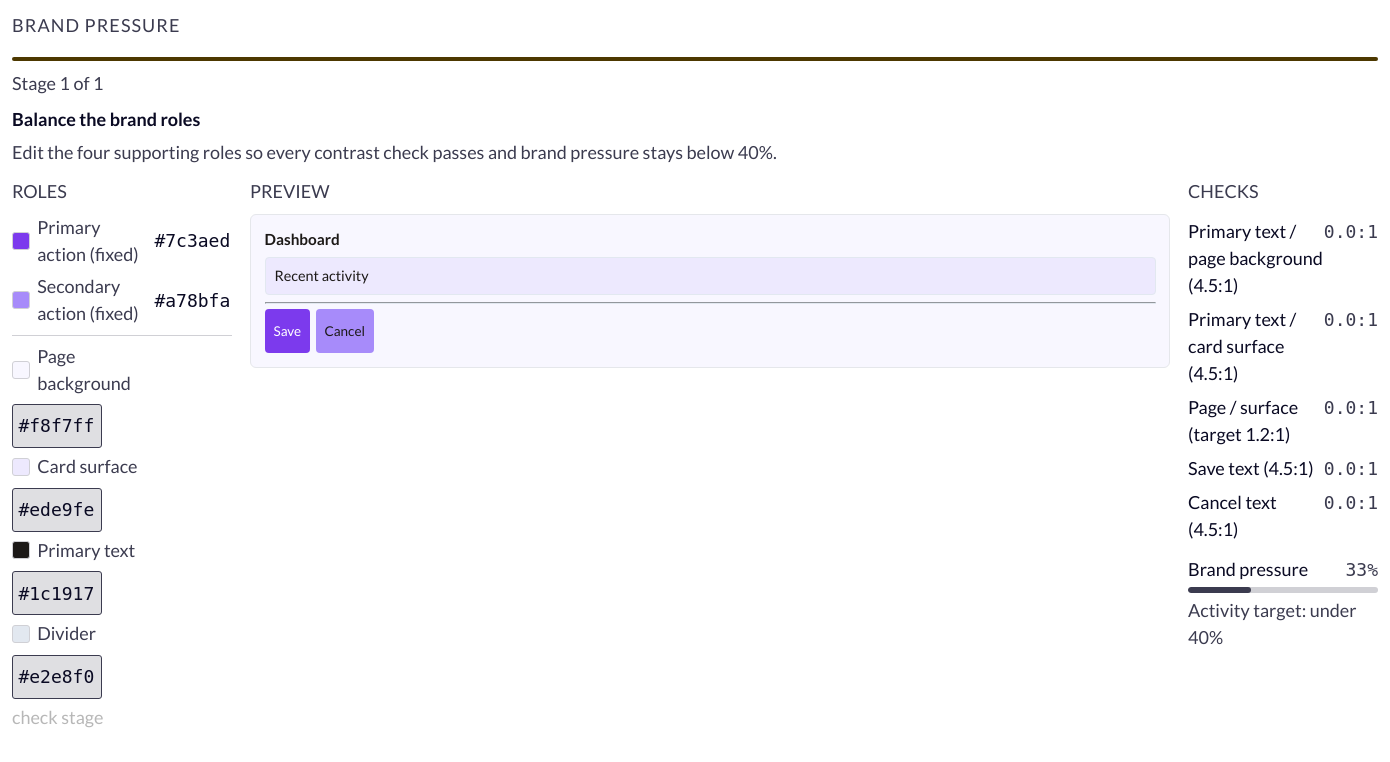
Test case: BrandPressureTool contrast validation › describes invalid hex values with a visible error
Replace the text in the field named "Primary text hex color" with "nope": (57, 593) [12,571,102,615]
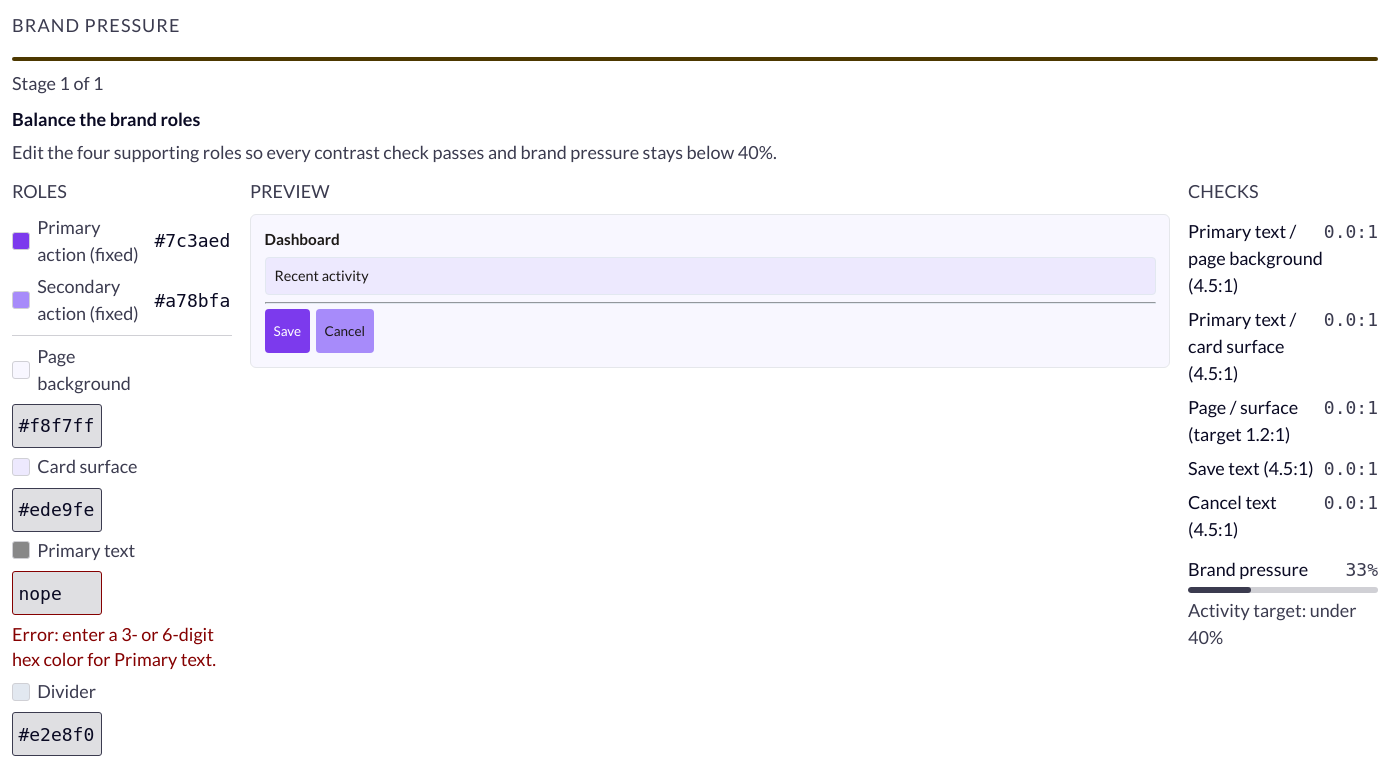
Now the text "Error: enter a 3- or 6-digit hex color for Primary text." is shown, box [12,622,232,673]
Replace the text in the field named "Primary text hex color" with "#1c1917": (57, 593) [12,571,102,615]
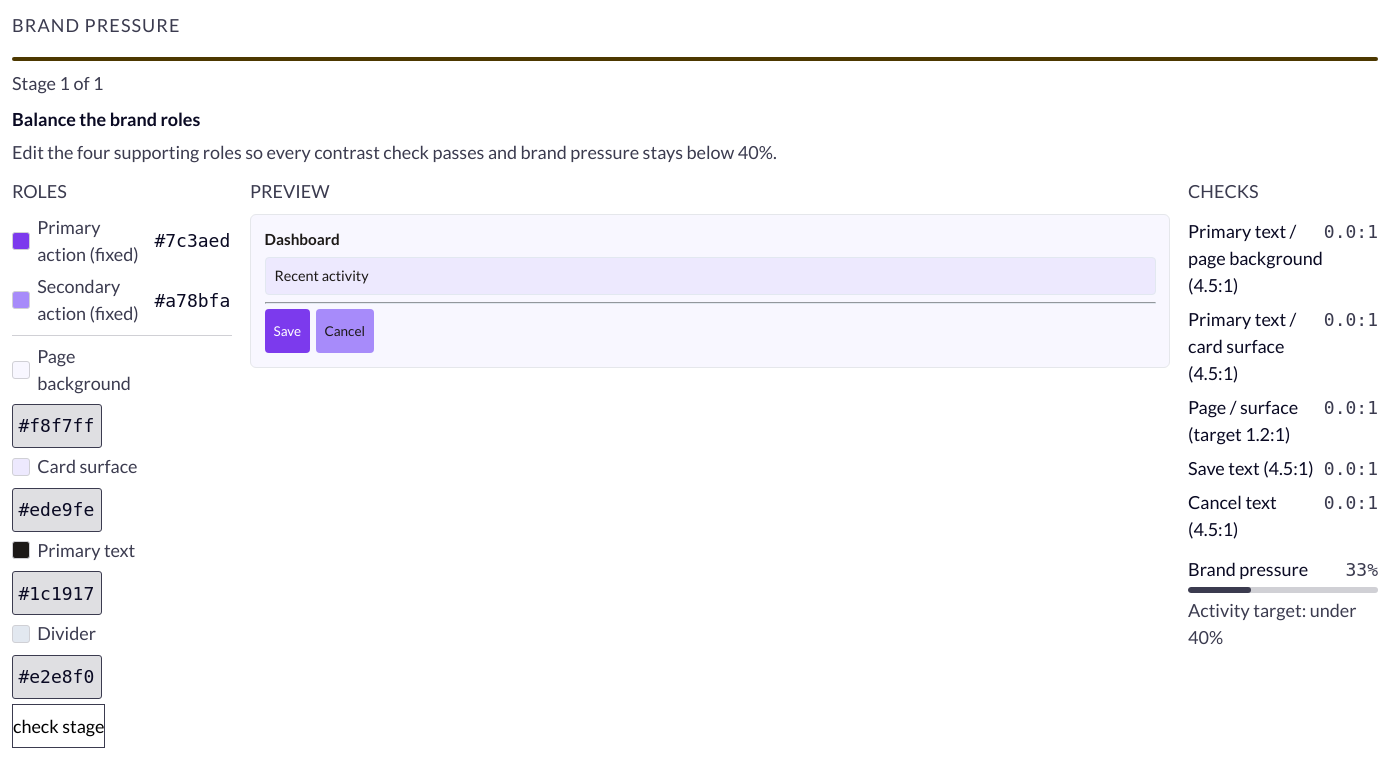
Now the text "hex color for Primary text" is gone
